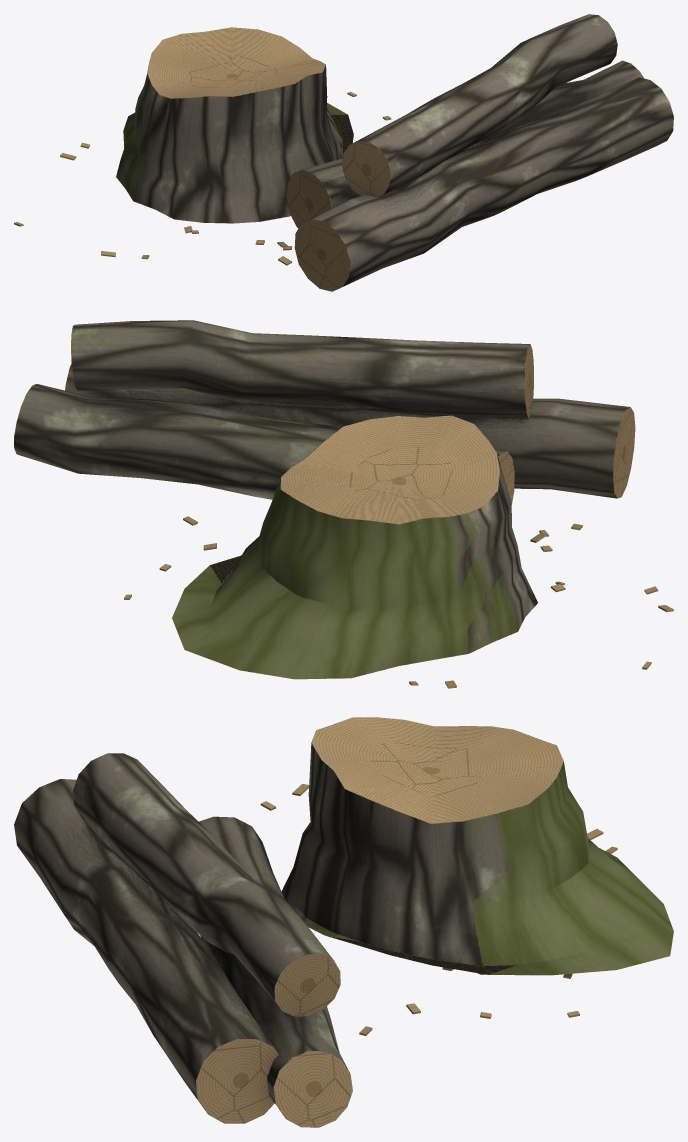
File: oak_stump.glb
3 views of the same model, one above another, from view 1: azimuth 30°, elevation 25°; view 2: azimuth 150°, elevation 25°; view 3: azimuth 270°, elevation 25° (orthographic). The views are drawn at different scales.
Visible parts, largest first — view 1: oak_stump_LOD0; view 2: oak_stump_LOD0; view 3: oak_stump_LOD0.
Part boxes in pixels (x1,y1,x2,y2): oak_stump_LOD0: (14,14,673,291); oak_stump_LOD0: (14,320,673,688); oak_stump_LOD0: (14,717,673,1127).
Size of what is drawn, in the model's own units: 5.04 by 1.07 by 3.78.
1 material, 1 textured.
